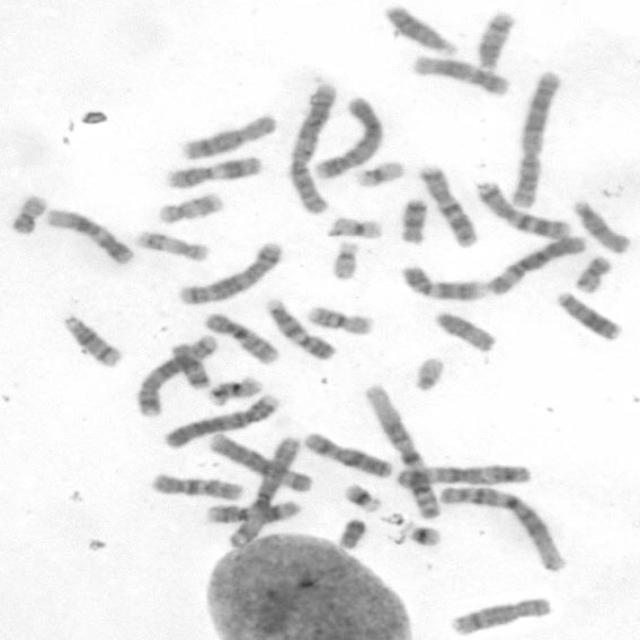A1: (436, 481, 569, 574), (361, 381, 444, 520)
A2: (506, 66, 567, 210), (282, 78, 340, 216)
A3: (222, 432, 303, 550), (390, 460, 534, 490)
B4: (157, 391, 280, 449), (310, 92, 385, 180)
B5: (175, 236, 285, 306), (132, 330, 217, 418)
C10: (200, 309, 282, 366), (147, 470, 245, 501)
C11: (162, 152, 265, 190), (202, 495, 303, 525)
C12: (42, 204, 136, 266), (406, 51, 512, 98)
C6: (205, 428, 314, 494), (484, 232, 588, 298)
C7: (470, 176, 573, 240), (413, 160, 479, 249)
C8: (176, 110, 278, 160), (446, 593, 553, 636)
C9: (263, 296, 339, 362), (397, 262, 488, 302)
D13: (379, 0, 458, 57), (552, 287, 624, 344)
D14: (59, 310, 125, 368), (472, 6, 518, 70)
D15: (568, 195, 633, 255), (429, 308, 497, 354)
E16: (303, 301, 375, 337), (203, 373, 265, 407)
E17: (131, 225, 212, 263), (154, 188, 226, 225)
E18: (169, 340, 213, 390), (396, 193, 430, 246)
F19: (350, 156, 407, 189), (324, 212, 384, 241)
F20: (6, 191, 49, 236), (571, 252, 613, 294)
G21: (339, 480, 382, 512), (400, 519, 444, 548)
G22: (326, 236, 362, 281), (409, 352, 446, 393)
X: (301, 428, 398, 480)
Y: (334, 514, 368, 550)
